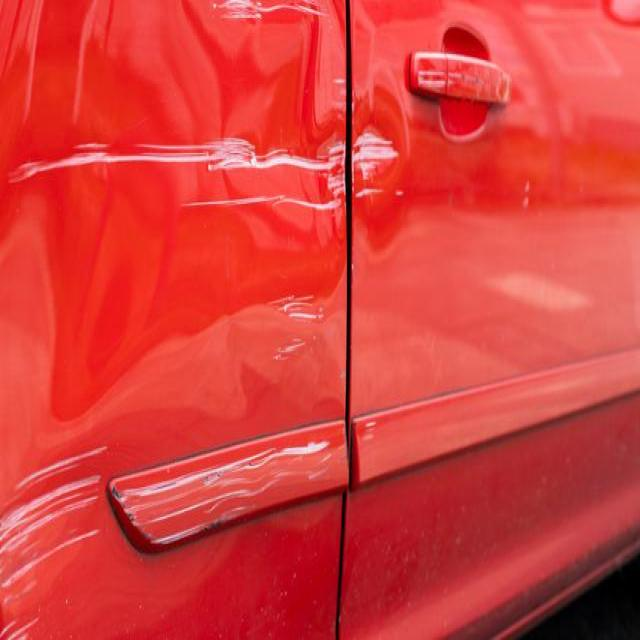Door: (0, 109, 485, 302)
